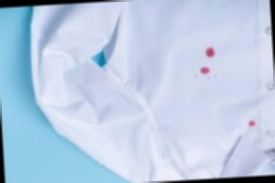blood: (205, 45, 215, 60), (248, 119, 256, 129), (201, 67, 209, 75)
